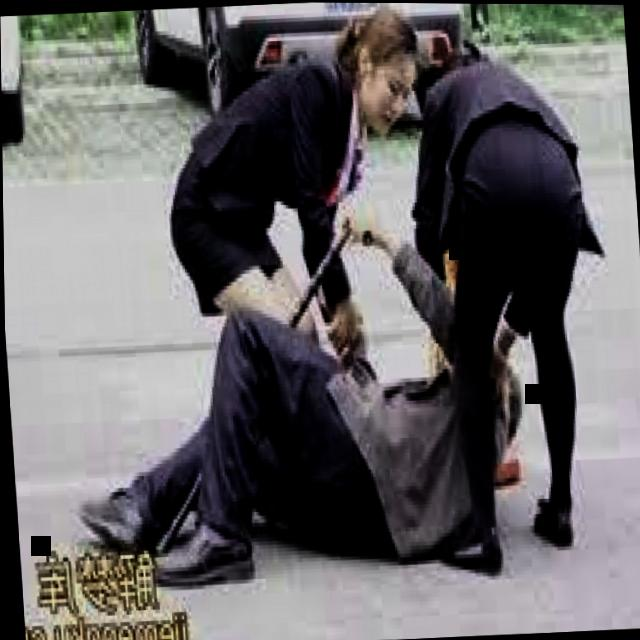Fall-Detected: (55, 181, 527, 605)
